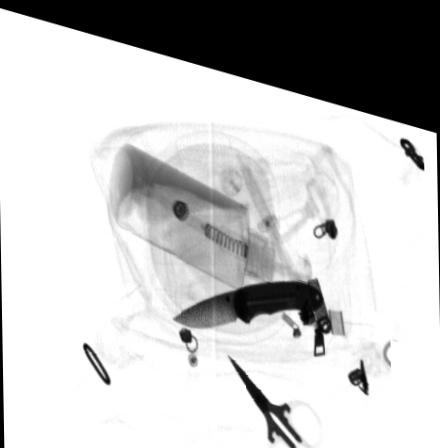Knife: (172, 262, 323, 317)
Scissors: (227, 342, 323, 448)
